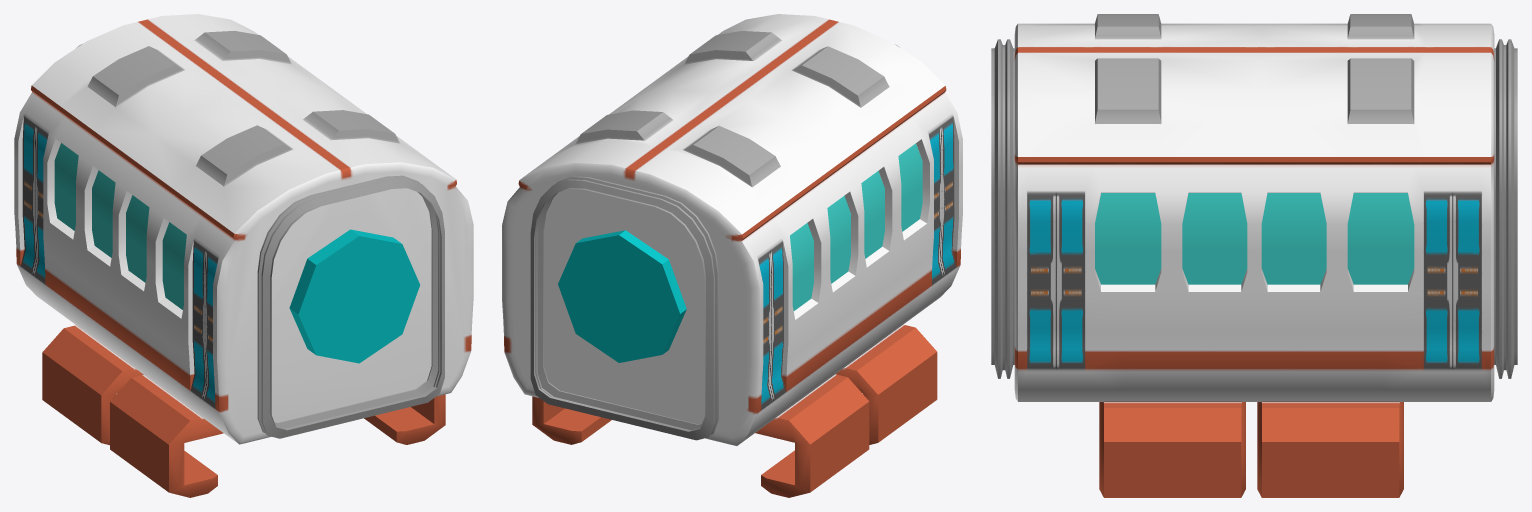
Rendered from Bullet2Body.fbx.
3 views of the same model, side by side, from view 1: azimuth 30°, elevation 25°; view 2: azimuth 150°, elevation 25°; view 3: azimuth 270°, elevation 25° (orthographic). The views are drawn at different scales.
Visible parts, largest first — view 1: _Passenger_wagon__Cube_164, Cylinder; view 2: _Passenger_wagon__Cube_164, Cylinder_1; view 3: _Passenger_wagon__Cube_164.
Boxes of the visible parts, box(x1,y1,x2,y2) form: _Passenger_wagon__Cube_164: box(14, 14, 473, 497); Cylinder: box(289, 229, 419, 363); _Passenger_wagon__Cube_164: box(502, 14, 962, 497); Cylinder_1: box(558, 230, 686, 362); _Passenger_wagon__Cube_164: box(991, 14, 1517, 497).
Bounding box in the file's own units: 93.54 × 108 × 132.
Materials: 2 (1 with a texture image).
